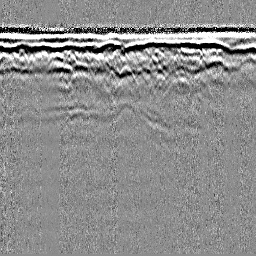cavity: (120, 61, 137, 85)
